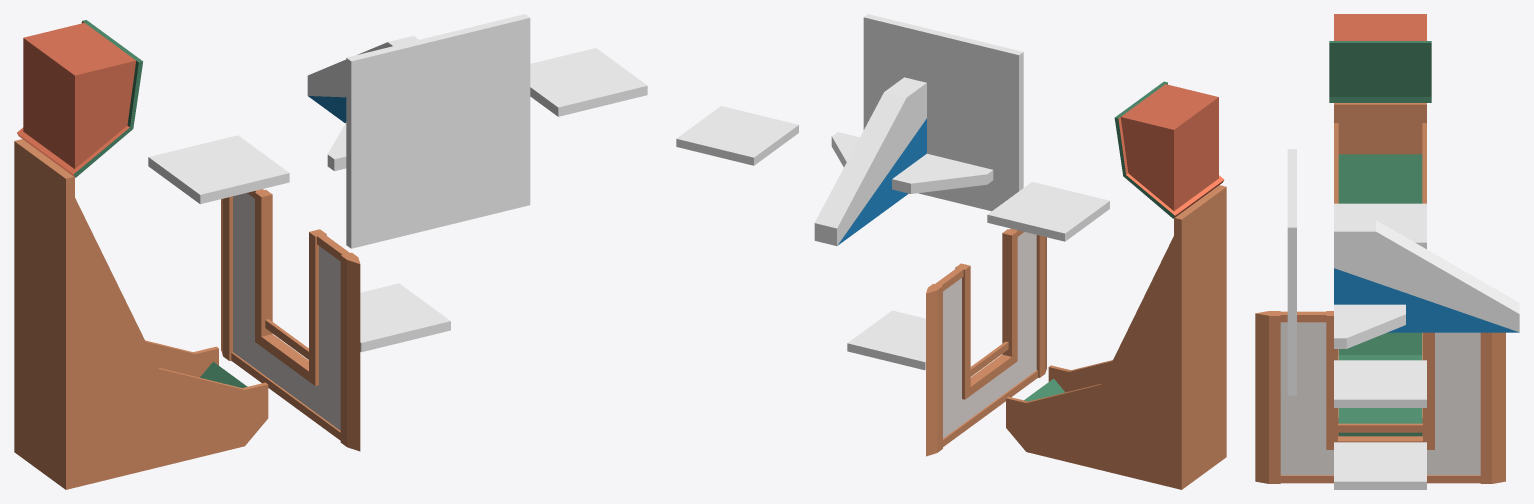
The model's file is PunchOff64.fbx.
3 views of the same model, side by side, from view 1: azimuth 30°, elevation 25°; view 2: azimuth 150°, elevation 25°; view 3: azimuth 270°, elevation 25° (orthographic). The views are drawn at different scales.
Parts seen in each view (by area): view 1: roofSide_18, block_default_4, wall_paperDoor_20, roof_barn_15, block_default_3, block_default_2, block_default_22, plane_rudderLarge_0; view 2: roofSide_18, block_default_4, wall_paperDoor_20, plane_rudderLarge_0, roof_barn_15, block_default_3, block_default_2, block_default_22; view 3: wall_paperDoor_20, plane_rudderLarge_0, roofSide_18, roof_barn_15, block_default_2, block_default_22, block_default_4, block_default_3.
Part boxes in pixels (bbox=[...]): roofSide_18: bbox=[14, 139, 268, 489]; block_default_4: bbox=[346, 14, 530, 248]; wall_paperDoor_20: bbox=[221, 189, 360, 451]; roof_barn_15: bbox=[17, 20, 143, 177]; block_default_3: bbox=[148, 135, 289, 204]; block_default_2: bbox=[530, 48, 647, 116]; block_default_22: bbox=[360, 283, 450, 352]; plane_rudderLarge_0: bbox=[307, 36, 418, 171]; roofSide_18: bbox=[1006, 185, 1226, 489]; block_default_4: bbox=[863, 14, 1023, 211]; wall_paperDoor_20: bbox=[926, 228, 1046, 456]; plane_rudderLarge_0: bbox=[814, 77, 993, 245]; roof_barn_15: bbox=[1114, 81, 1224, 218]; block_default_3: bbox=[987, 182, 1109, 241]; block_default_2: bbox=[676, 106, 798, 165]; block_default_22: bbox=[847, 310, 925, 370]; wall_paperDoor_20: bbox=[1255, 311, 1505, 483]; plane_rudderLarge_0: bbox=[1334, 220, 1519, 348]; roofSide_18: bbox=[1334, 103, 1426, 436]; roof_barn_15: bbox=[1329, 14, 1431, 102]; block_default_2: bbox=[1334, 360, 1426, 407]; block_default_22: bbox=[1334, 442, 1426, 489]; block_default_4: bbox=[1287, 149, 1296, 395]; block_default_3: bbox=[1334, 203, 1426, 249].
Size of the model in its own units: 65 by 44 by 28.5.
